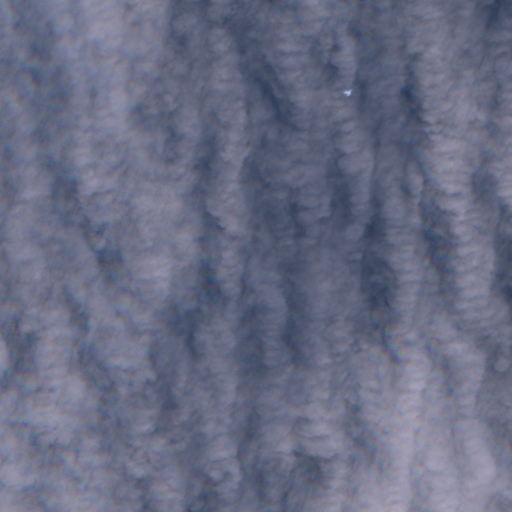Iceberg: (343, 89, 352, 95)
